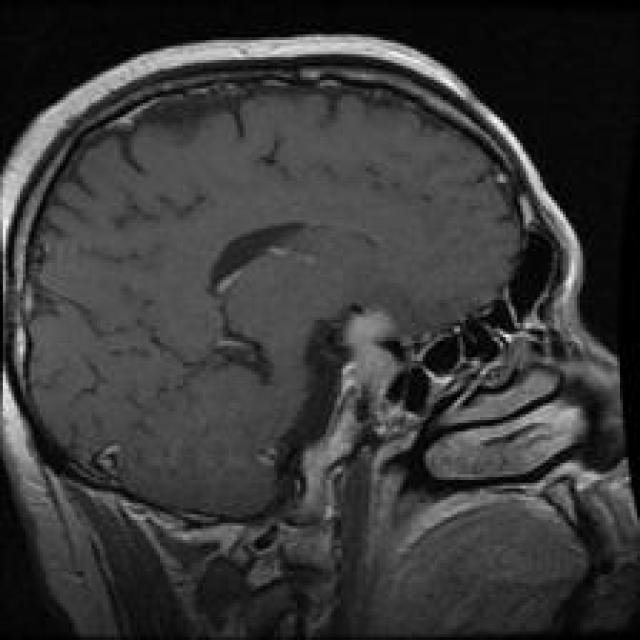pituitary_tumor: (304, 285, 434, 463)
